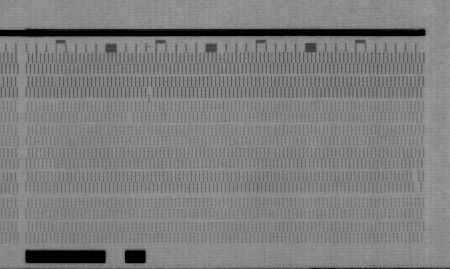Broken hole: (409, 169, 423, 191), (124, 110, 135, 124)
Oblique printing: (145, 86, 156, 104)
